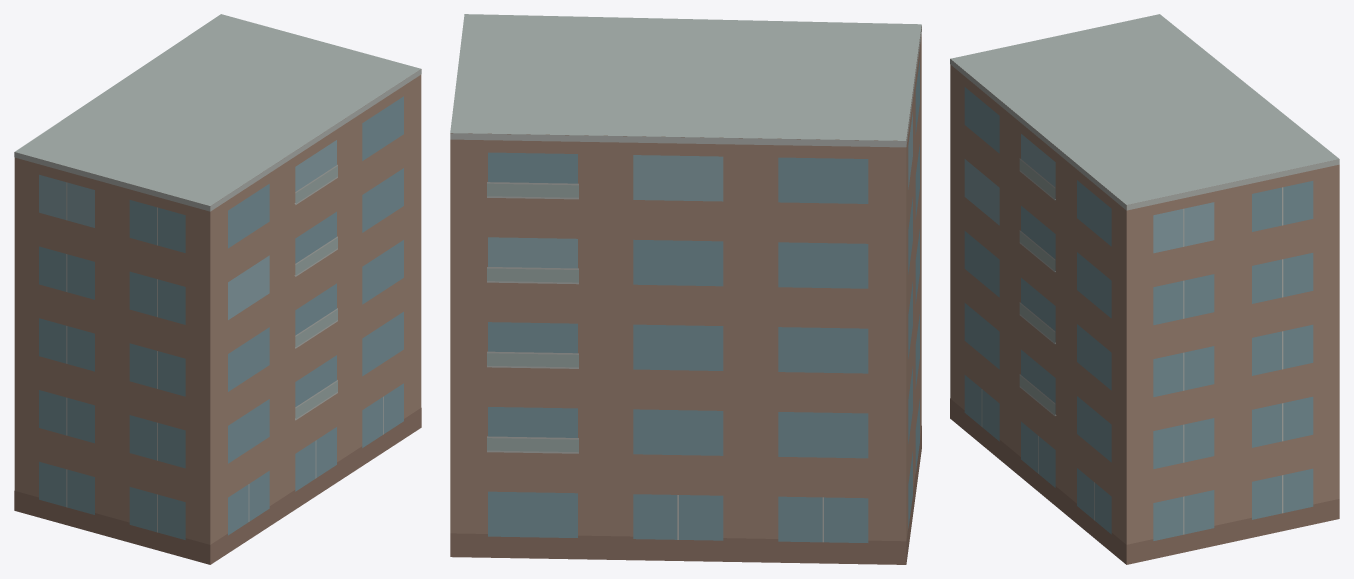
File: survey-upis-32840397.glb
3 views of the same model, side by side, from view 1: azimuth 30°, elevation 25°; view 2: azimuth 150°, elevation 25°; view 3: azimuth 270°, elevation 25° (orthographic). The views are drawn at different scales.
Parts seen in each view (by area): view 1: survey-upis-32840397.tmp; view 2: survey-upis-32840397.tmp; view 3: survey-upis-32840397.tmp.
Boxes of the visible parts, <box> form: survey-upis-32840397.tmp: <box>14,14,421,564</box>; survey-upis-32840397.tmp: <box>450,14,921,564</box>; survey-upis-32840397.tmp: <box>950,14,1339,564</box>.
Size of the model in its own units: 18.12 by 15.9 by 15.61.
